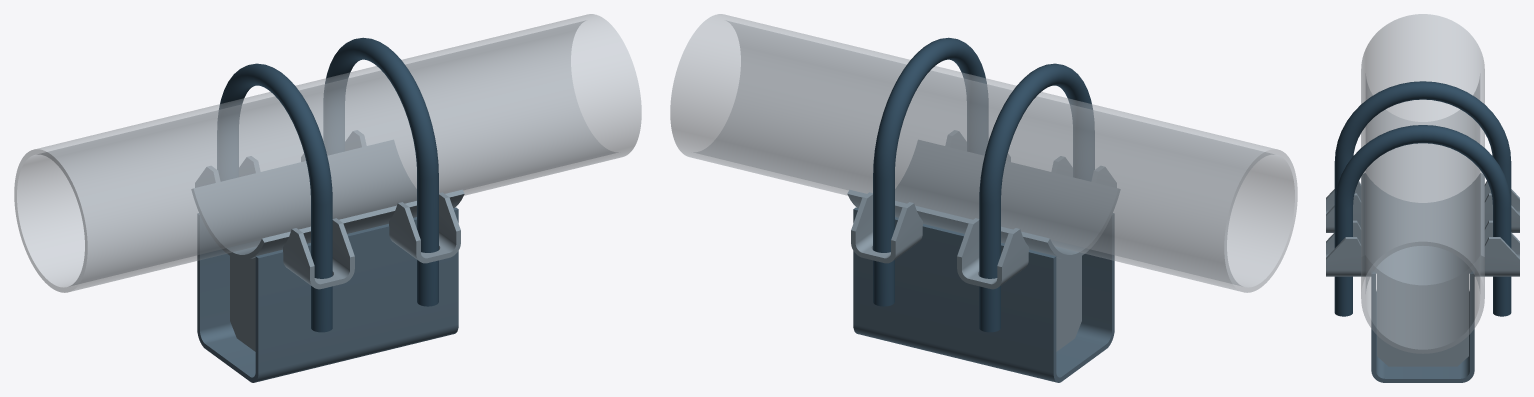
Rendered from TS-732.00.00.00-opora-dn108-L170.glb.
3 renders of one model, left to right at view 1: azimuth 30°, elevation 25°; view 2: azimuth 150°, elevation 25°; view 3: azimuth 270°, elevation 25°, orthographic. The views are drawn at different scales.
Parts seen in each view (by area): view 1: truba, skoba_0, podushka_3, homut_0, homut_1, ushko_5, ushko_7, rebro4_1, ushko_4; view 2: truba, skoba_0, podushka_3, homut_0, homut_1, ushko_4, ushko_6, rebro4_1, ushko_5; view 3: truba, podushka_3, rebro4_2, homut_1, homut_0, skoba_0, ushko_6, ushko_7, ushko_4, ushko_5.
Part boxes in pixels (left/top/right/bottom): truba: left=14, top=14, right=641, bottom=292; skoba_0: left=197, top=207, right=458, bottom=382; podushka_3: left=191, top=140, right=464, bottom=260; homut_0: left=217, top=63, right=332, bottom=332; homut_1: left=323, top=37, right=438, bottom=306; ushko_5: left=283, top=218, right=354, bottom=289; ushko_7: left=389, top=192, right=460, bottom=263; rebro4_1: left=230, top=256, right=255, bottom=351; ushko_4: left=195, top=156, right=259, bottom=187; truba: left=670, top=14, right=1297, bottom=292; skoba_0: left=853, top=207, right=1114, bottom=382; podushka_3: left=847, top=140, right=1120, bottom=260; homut_0: left=979, top=63, right=1094, bottom=332; homut_1: left=873, top=37, right=988, bottom=306; ushko_4: left=957, top=218, right=1028, bottom=289; ushko_6: left=851, top=192, right=922, bottom=263; rebro4_1: left=1056, top=256, right=1081, bottom=351; ushko_5: left=1052, top=156, right=1116, bottom=187; truba: left=1361, top=14, right=1484, bottom=353; podushka_3: left=1361, top=173, right=1484, bottom=289; rebro4_2: left=1377, top=274, right=1468, bottom=366; homut_1: left=1334, top=125, right=1511, bottom=316; homut_0: left=1334, top=81, right=1511, bottom=203; skoba_0: left=1371, top=270, right=1474, bottom=382; ushko_6: left=1475, top=220, right=1519, bottom=276; ushko_7: left=1326, top=220, right=1370, bottom=276; ushko_4: left=1484, top=181, right=1519, bottom=232; ushko_5: left=1326, top=181, right=1361, bottom=232.
Size of the model in its own units: 470 by 229 by 169.
